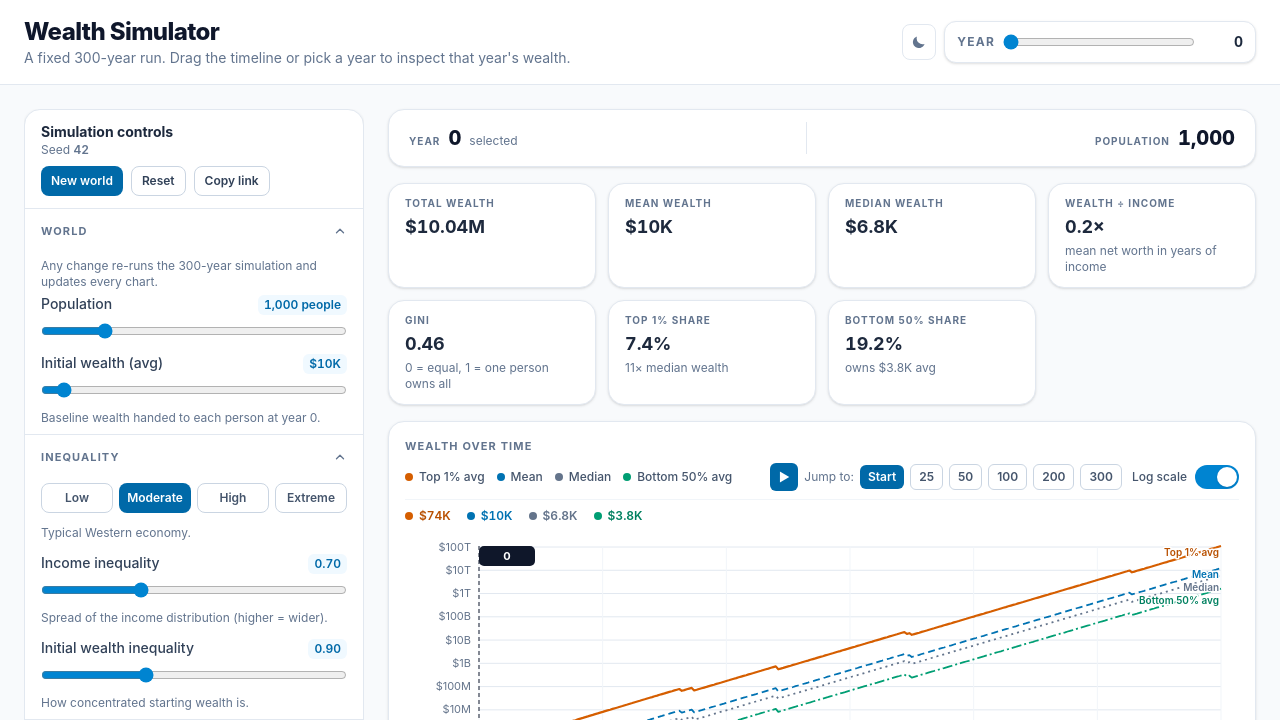
Test: play button toggles between play and pause
The width and height of the screenshot is (1280, 720).
Step 1. Click the button named "Play animation" → point(784, 476), box left=770, top=462, right=798, bottom=490
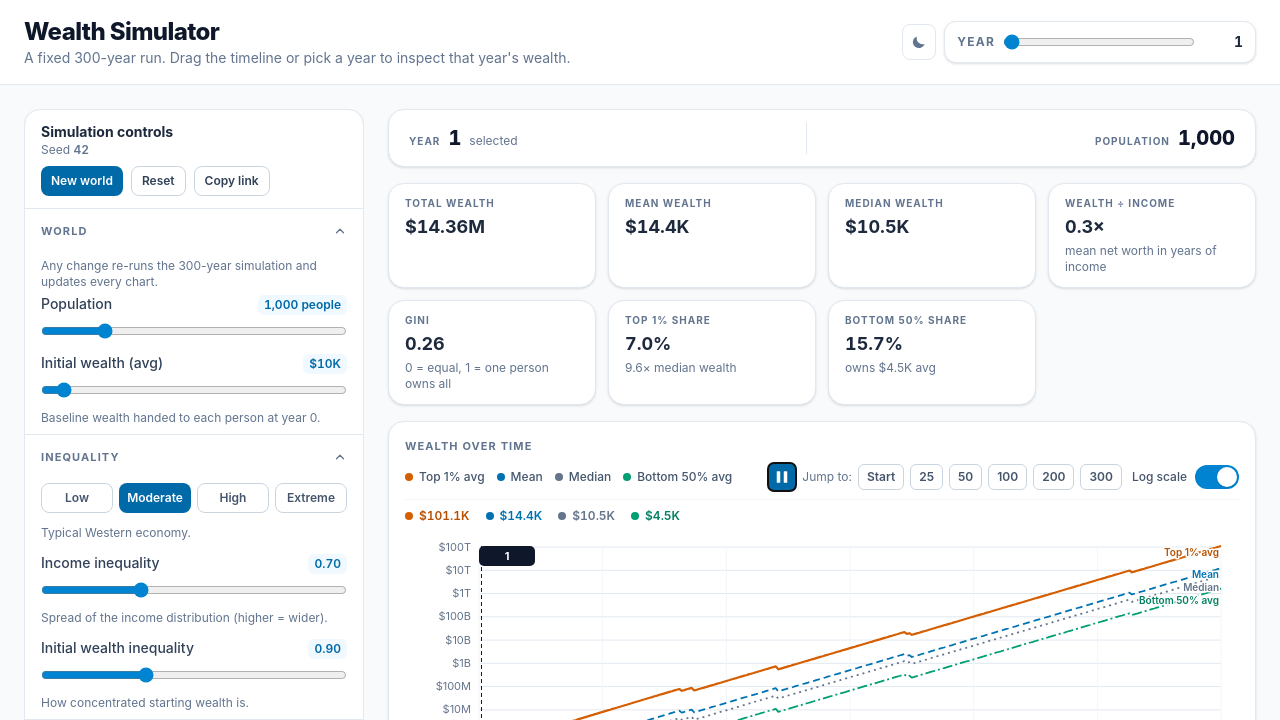
expect the button named "Pause animation" is shown: met
Step 2. Click the button named "Pause animation" → point(782, 476), box left=768, top=462, right=796, bottom=490
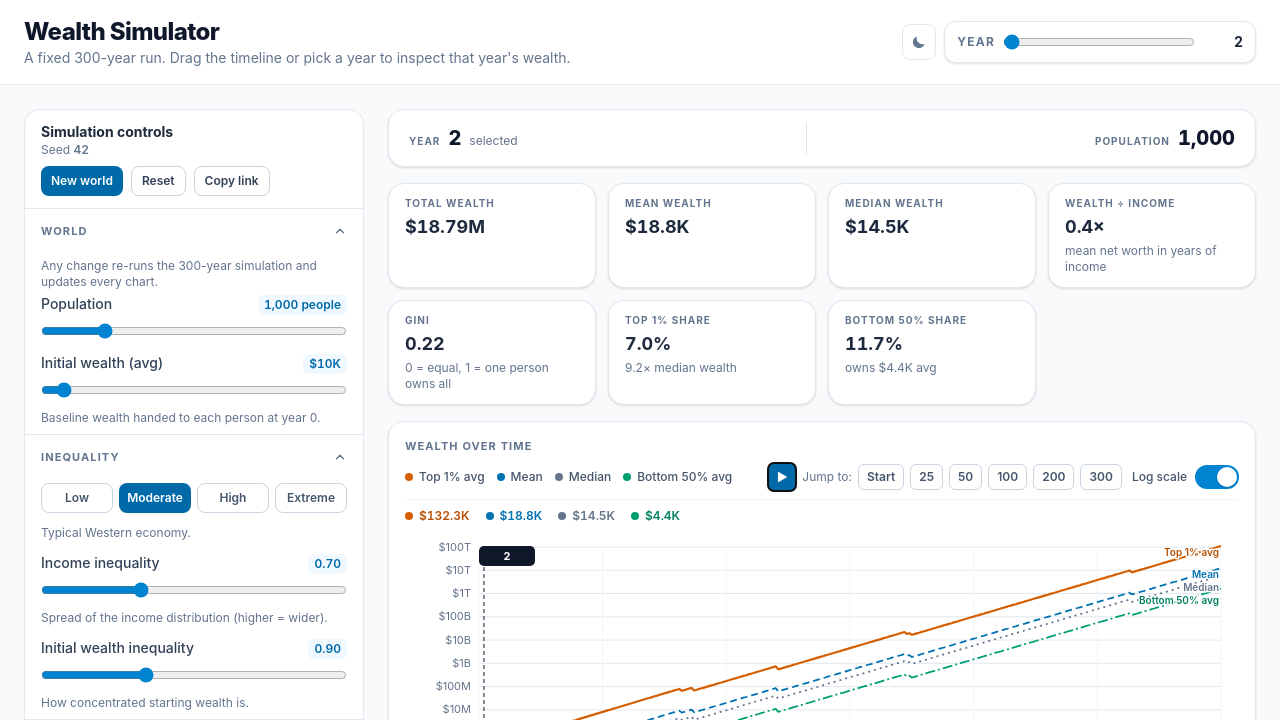
expect the button named "Play animation" is shown: met, box left=768, top=462, right=796, bottom=490
